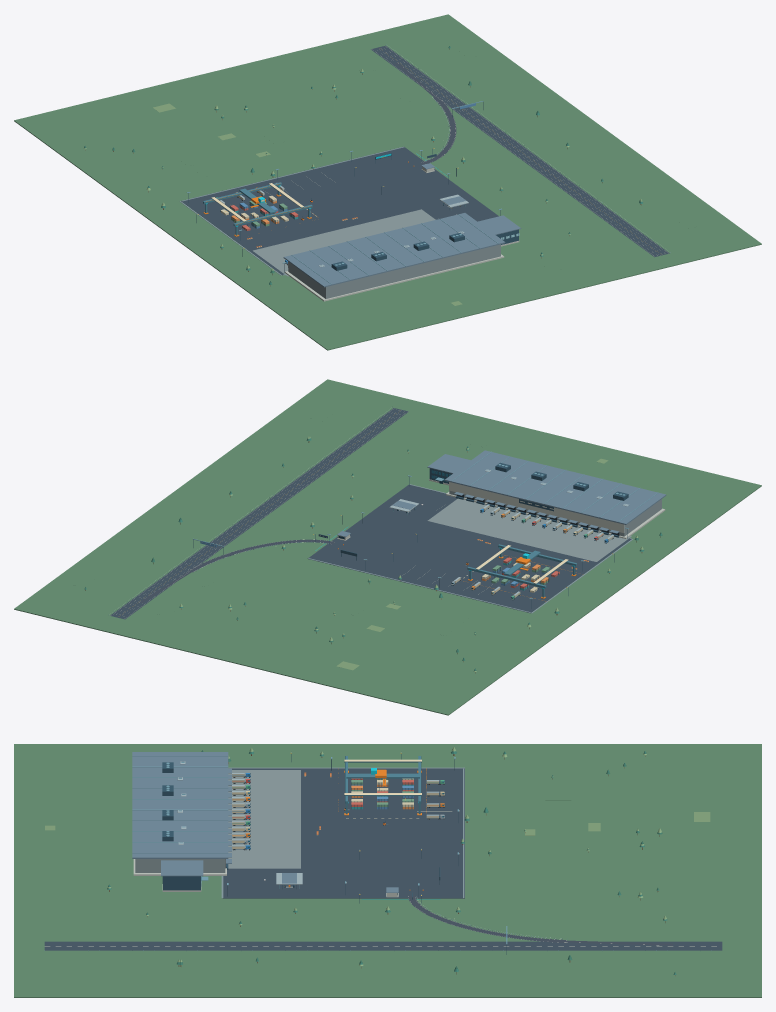
Rendered from terminal-yard.glb.
3 views of the same model, one above another, from view 1: azimuth 30°, elevation 25°; view 2: azimuth 150°, elevation 25°; view 3: azimuth 270°, elevation 25° (orthographic). The views are drawn at different scales.
Parts seen in each view (by area): view 1: TLH_MaterialBatch_TLH_V1_lawn, TLH_MaterialBatch_V1F_YardAsphalt, TLH_MaterialBatch_TLH_V1_roof, TLH_MaterialBatch_V1F_Concrete, TLH_MaterialBatch_TLH_V1_steelDark, TLH_MaterialBatch_V1F_Steel, TLH_MaterialBatch_TLH_V1_concreteLight, TLH_MaterialBatch_TLH_V1_steel, TLH_MaterialBatch_TLH_V1_darkAsphalt; view 2: TLH_MaterialBatch_TLH_V1_lawn, TLH_MaterialBatch_V1F_YardAsphalt, TLH_MaterialBatch_TLH_V1_roof, TLH_MaterialBatch_V1F_Concrete, TLH_MaterialBatch_TLH_V1_concreteLight, TLH_MaterialBatch_TLH_V1_steelDark, TLH_MaterialBatch_V1F_Steel, TLH_MaterialBatch_TLH_V1_steel, TLH_MaterialBatch_TLH_V1_darkAsphalt, TLH_MaterialBatch_TLH_V1_edge; view 3: TLH_MaterialBatch_TLH_V1_lawn, TLH_MaterialBatch_V1F_YardAsphalt, TLH_MaterialBatch_TLH_V1_roof, TLH_MaterialBatch_V1F_Concrete, TLH_MaterialBatch_TLH_V1_steelDark, TLH_MaterialBatch_TLH_V1_steel, TLH_MaterialBatch_TLH_V1_darkAsphalt, TLH_MaterialBatch_V1F_Steel, TLH_MaterialBatch_TLH_V1_containerCream, TLH_MaterialBatch_TLH_V1_edge, TLH_MaterialBatch_TLH_V1_roofLight.
Part boxes in pixels (<box>): TLH_MaterialBatch_TLH_V1_lawn: <box>14,14,761,350</box>; TLH_MaterialBatch_V1F_YardAsphalt: <box>181,45,669,274</box>; TLH_MaterialBatch_TLH_V1_roof: <box>283,163,521,287</box>; TLH_MaterialBatch_V1F_Concrete: <box>253,205,500,298</box>; TLH_MaterialBatch_TLH_V1_steelDark: <box>188,102,518,272</box>; TLH_MaterialBatch_V1F_Steel: <box>203,182,312,235</box>; TLH_MaterialBatch_TLH_V1_concreteLight: <box>223,167,519,301</box>; TLH_MaterialBatch_TLH_V1_steel: <box>187,44,670,284</box>; TLH_MaterialBatch_TLH_V1_darkAsphalt: <box>395,63,456,164</box>; TLH_MaterialBatch_TLH_V1_lawn: <box>14,379,761,715</box>; TLH_MaterialBatch_V1F_YardAsphalt: <box>110,408,631,619</box>; TLH_MaterialBatch_TLH_V1_roof: <box>337,450,666,536</box>; TLH_MaterialBatch_V1F_Concrete: <box>399,490,661,561</box>; TLH_MaterialBatch_TLH_V1_concreteLight: <box>337,479,665,540</box>; TLH_MaterialBatch_TLH_V1_steelDark: <box>193,462,628,608</box>; TLH_MaterialBatch_V1F_Steel: <box>467,544,576,597</box>; TLH_MaterialBatch_TLH_V1_steel: <box>108,407,658,615</box>; TLH_MaterialBatch_TLH_V1_darkAsphalt: <box>139,539,334,603</box>; TLH_MaterialBatch_TLH_V1_edge: <box>308,484,633,613</box>; TLH_MaterialBatch_TLH_V1_lawn: <box>14,744,761,997</box>; TLH_MaterialBatch_V1F_YardAsphalt: <box>44,768,722,950</box>; TLH_MaterialBatch_TLH_V1_roof: <box>132,752,398,892</box>; TLH_MaterialBatch_V1F_Concrete: <box>135,770,300,887</box>; TLH_MaterialBatch_TLH_V1_steelDark: <box>162,754,506,954</box>; TLH_MaterialBatch_TLH_V1_steel: <box>44,752,711,950</box>; TLH_MaterialBatch_TLH_V1_darkAsphalt: <box>408,896,672,945</box>; TLH_MaterialBatch_V1F_Steel: <box>344,756,421,814</box>; TLH_MaterialBatch_TLH_V1_containerCream: <box>232,773,438,848</box>; TLH_MaterialBatch_TLH_V1_edge: <box>221,767,464,898</box>; TLH_MaterialBatch_TLH_V1_roofLight: <box>177,761,439,884</box>.
Size of the model in its own units: 680 by 31.77 by 850.
